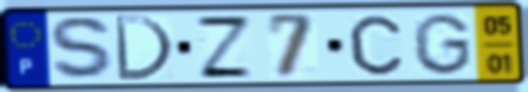7: (264, 12, 321, 81)
C: (346, 12, 406, 77)
D: (111, 13, 177, 83)
G: (409, 11, 474, 77)
S: (46, 14, 120, 84)
Z: (192, 14, 256, 80)
